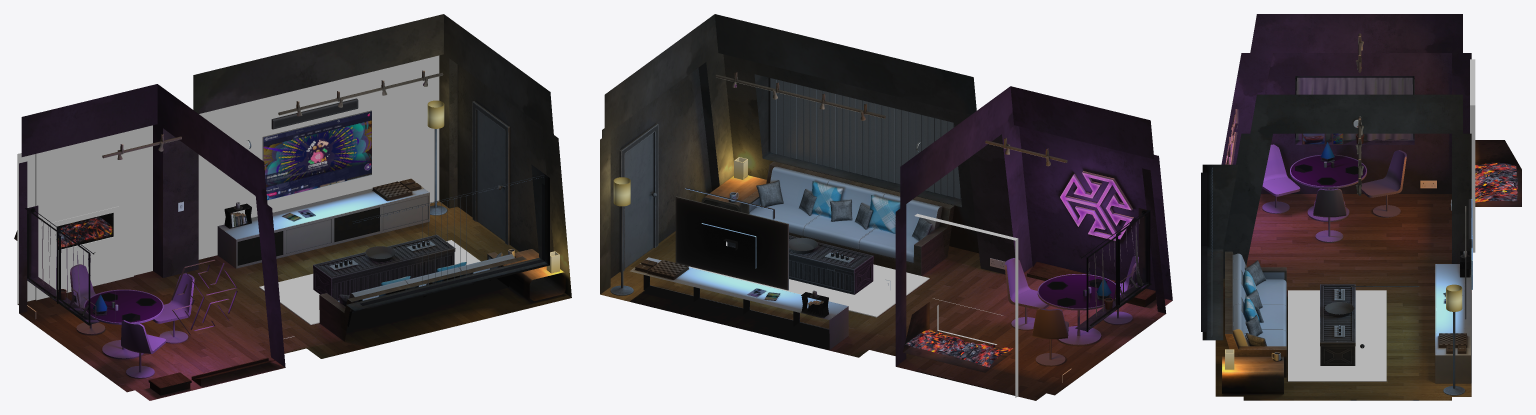
Rendered from appartment.gltf.
3 renders of one model, left to right at view 1: azimuth 30°, elevation 25°; view 2: azimuth 150°, elevation 25°; view 3: azimuth 270°, elevation 25°, orthographic. The views are drawn at different scales.
Parts seen in each view (by area): view 1: WallsNEW_8, BrickFinal_17, Floor_New_7, Seat_1, Electrics_2, FinalTable_20, Door_6, Chest_11, TableItemsF_19, Lights_3, PillowsNEW_5, Plane001_21 (+5 smaller); view 2: WallsNEW_8, Floor_New_7, Seat_1, Blinds_13, Electrics_2, FinalTable_20, Door_6, PillowsNEW_5, BrickFinal_17, Lights_3, Chest_11, Chimney_18 (+5 smaller); view 3: WallsNEW_8, Floor_New_7, Seat_1, BrickFinal_17, FinalTable_20, Chimney_18, Curtain_14, Chest_11, TableItemsF_19, PillowsNEW_5, Electrics_2, Lights_3 (+5 smaller).
Boxes of the visible parts, bbox=[...] form: WallsNEW_8: bbox=[19, 14, 571, 367]; BrickFinal_17: bbox=[17, 55, 480, 324]; Floor_New_7: bbox=[17, 201, 571, 400]; Seat_1: bbox=[217, 182, 565, 341]; Electrics_2: bbox=[27, 98, 447, 338]; FinalTable_20: bbox=[70, 264, 194, 378]; Door_6: bbox=[472, 101, 509, 245]; Chest_11: bbox=[313, 234, 455, 300]; TableItemsF_19: bbox=[25, 183, 544, 325]; Lights_3: bbox=[102, 70, 443, 335]; PillowsNEW_5: bbox=[148, 252, 502, 395]; Plane001_21: bbox=[56, 213, 113, 249]; WallsNEW_8: bbox=[600, 14, 1172, 366]; Floor_New_7: bbox=[600, 231, 1172, 400]; Seat_1: bbox=[630, 161, 954, 349]; Blinds_13: bbox=[770, 78, 961, 198]; Electrics_2: bbox=[610, 142, 1071, 382]; FinalTable_20: bbox=[1004, 256, 1138, 366]; Door_6: bbox=[619, 123, 658, 272]; PillowsNEW_5: bbox=[756, 180, 1155, 307]; BrickFinal_17: bbox=[689, 213, 1018, 397]; Lights_3: bbox=[715, 72, 1133, 240]; Chest_11: bbox=[726, 235, 873, 294]; Chimney_18: bbox=[903, 302, 1012, 372]; WallsNEW_8: bbox=[1202, 14, 1471, 340]; Floor_New_7: bbox=[1215, 194, 1471, 400]; Seat_1: bbox=[1222, 251, 1470, 393]; BrickFinal_17: bbox=[1288, 59, 1475, 381]; FinalTable_20: bbox=[1262, 144, 1406, 242]; Chimney_18: bbox=[1475, 140, 1521, 206]; Curtain_14: bbox=[1296, 77, 1413, 140]; Chest_11: bbox=[1320, 284, 1355, 365]; TableItemsF_19: bbox=[1201, 76, 1469, 331]; PillowsNEW_5: bbox=[1243, 260, 1266, 346]; Electrics_2: bbox=[1246, 119, 1472, 395]; Lights_3: bbox=[1225, 33, 1363, 195].
Size of the model in its own units: 8.96 by 3.63 by 5.7.
